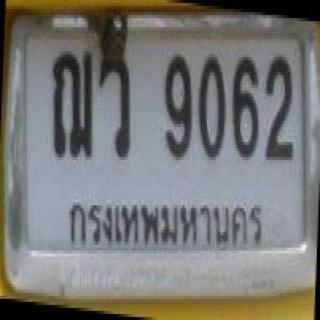A12: (49, 43, 96, 167)
A37: (97, 53, 141, 160)
N00: (196, 48, 229, 162)
N02: (264, 49, 299, 167)
N06: (230, 47, 263, 163)
N09: (162, 50, 195, 162)
P04: (64, 200, 271, 247)
